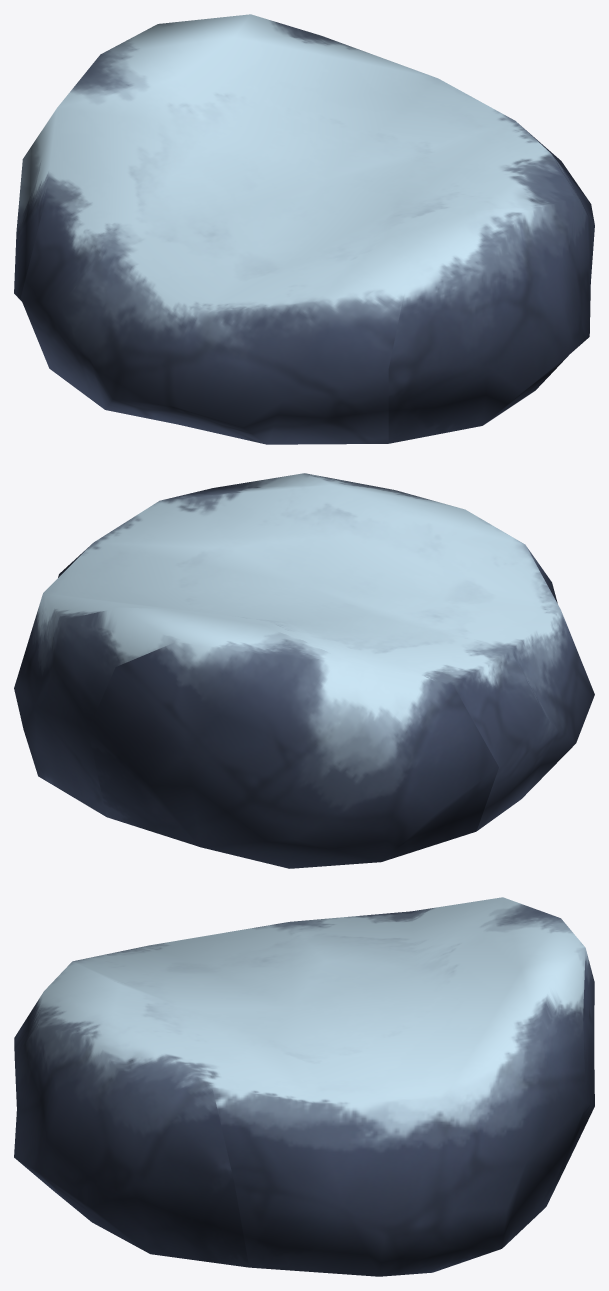
Rendered from Boulder_SizeL.fbx.
3 renders of one model, top to bottom at view 1: azimuth 30°, elevation 25°; view 2: azimuth 150°, elevation 25°; view 3: azimuth 270°, elevation 25°, orthographic. The views are drawn at different scales.
Parts seen in each view (by area): view 1: bolder1; view 2: bolder1; view 3: bolder1.
Part boxes in pixels (x1,y1,x2,y2): bolder1: [14, 14, 594, 444]; bolder1: [14, 473, 594, 868]; bolder1: [14, 897, 594, 1276].
Size of the model in its own units: 0.036 by 0.0165 by 0.0366.
